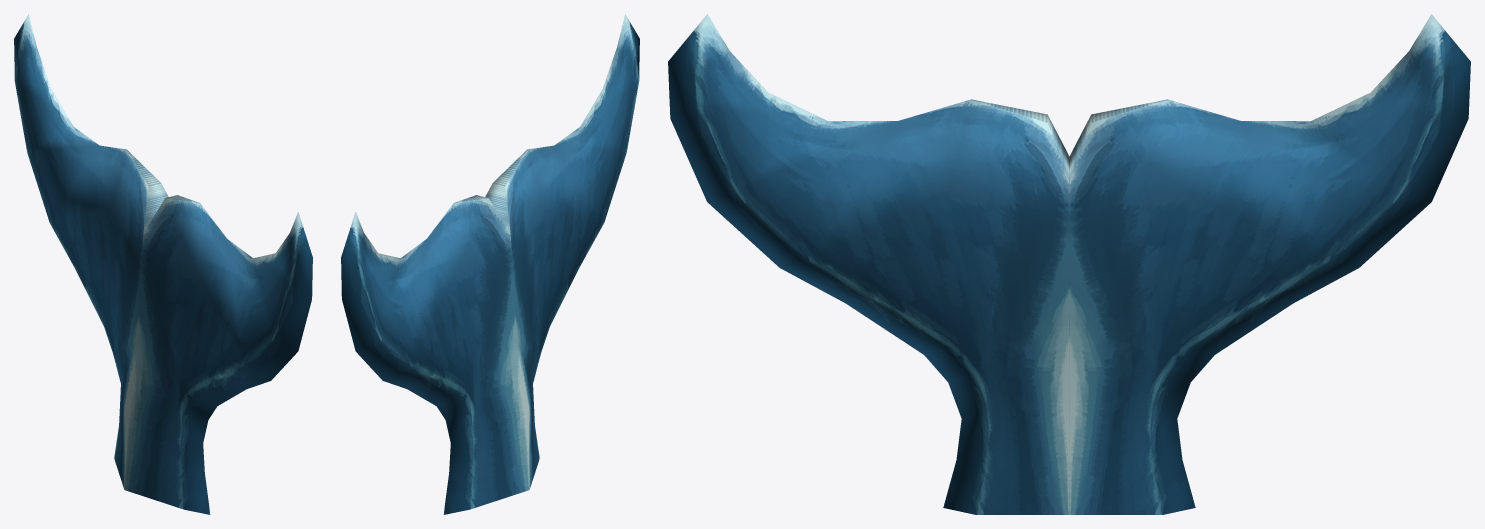
File: coda.FBX
3 renders of one model, left to right at view 1: azimuth 30°, elevation 25°; view 2: azimuth 150°, elevation 25°; view 3: azimuth 270°, elevation 25°, orthographic. The views are drawn at different scales.
Visible parts, largest first — view 1: Pinna; view 2: Pinna; view 3: Pinna.
Boxes of the visible parts, x1=… form: Pinna: x1=14, y1=14, x2=312, y2=514; Pinna: x1=341, y1=14, x2=639, y2=514; Pinna: x1=668, y1=14, x2=1470, y2=514.
Bounding box in the file's own units: 2.82 × 16.32 × 24.03.
1 material, 1 textured.
